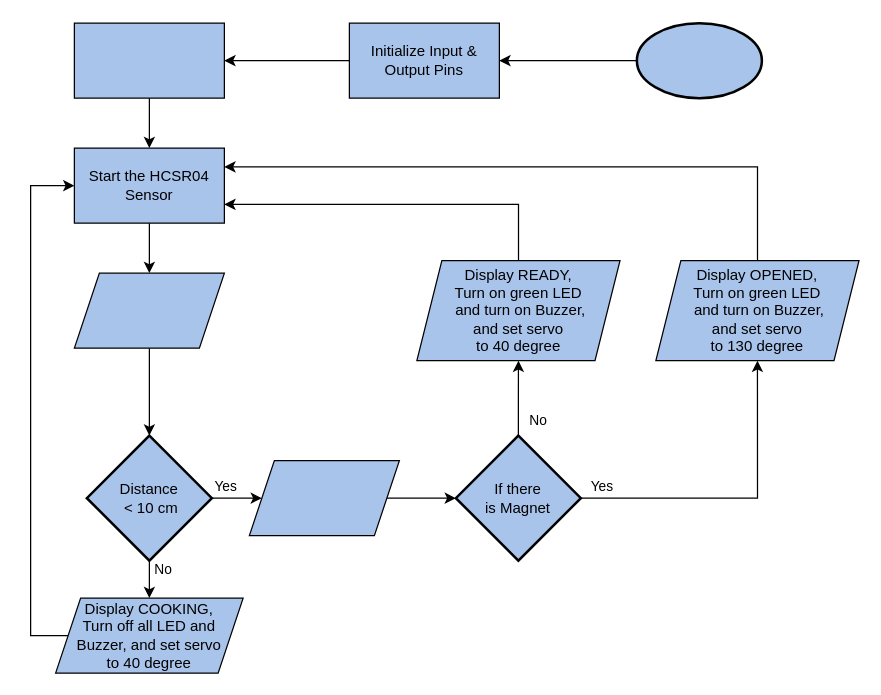
Image size: 881x695. Some labels were removed from this diagram. The shapes that lost their labels are listed below. From the top down, each one's centre as x and y in pixels, then its label:
the point at 148,60: Initialize SPI and USART
the point at 698,60: Start
the point at 148,310: get the calculated distance
the point at 323,497: Get the magnet input
